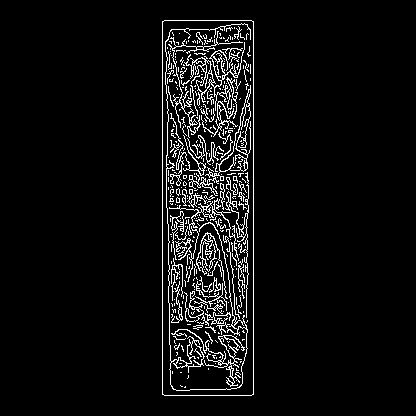buddha-sitting: (39, 92, 208, 277)
